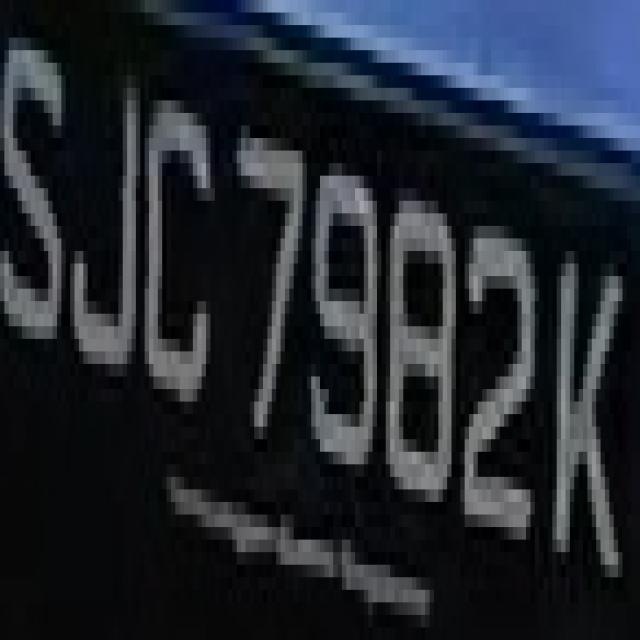2: (460, 163, 539, 577)
7: (228, 88, 311, 477)
8: (377, 138, 456, 527)
9: (298, 113, 390, 540)
C: (136, 50, 223, 427)
J: (70, 25, 145, 389)
K: (539, 213, 631, 628)
S: (5, 25, 70, 402)
